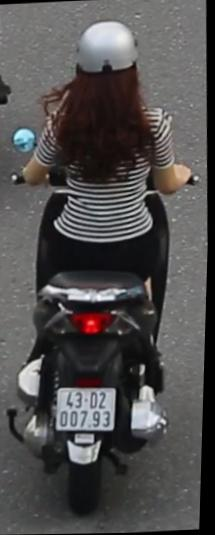LP: (55, 378, 122, 436)
helmet: (63, 7, 157, 136)
